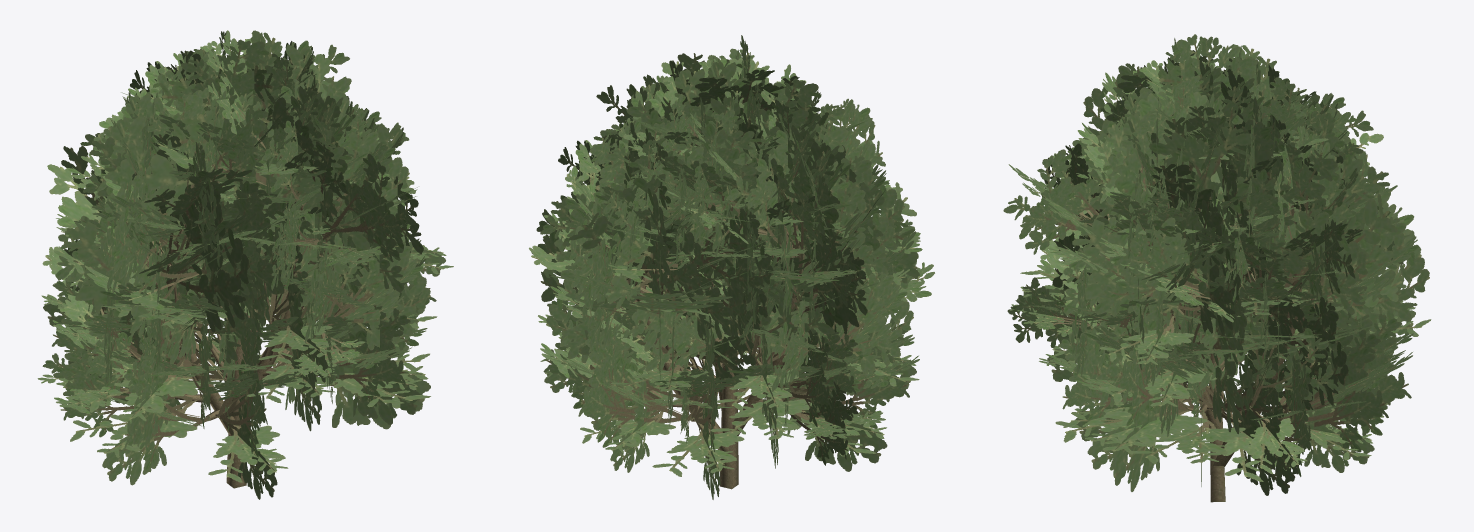
File: BuxusSempervirens.glb
3 renders of one model, left to right at view 1: azimuth 30°, elevation 25°; view 2: azimuth 150°, elevation 25°; view 3: azimuth 270°, elevation 25°, orthographic. The views are drawn at different scales.
Parts seen in each view (by area): view 1: Boxwood__Realistic_LOD3; view 2: Boxwood__Realistic_LOD3; view 3: Boxwood__Realistic_LOD3.
Part boxes in pixels (x1,y1,x2,y2): Boxwood__Realistic_LOD3: (37, 30, 453, 499); Boxwood__Realistic_LOD3: (529, 35, 934, 499); Boxwood__Realistic_LOD3: (1003, 34, 1431, 502).
Size of the model in its own units: 1.02 by 1.14 by 1.01.
1 material, 1 textured.
